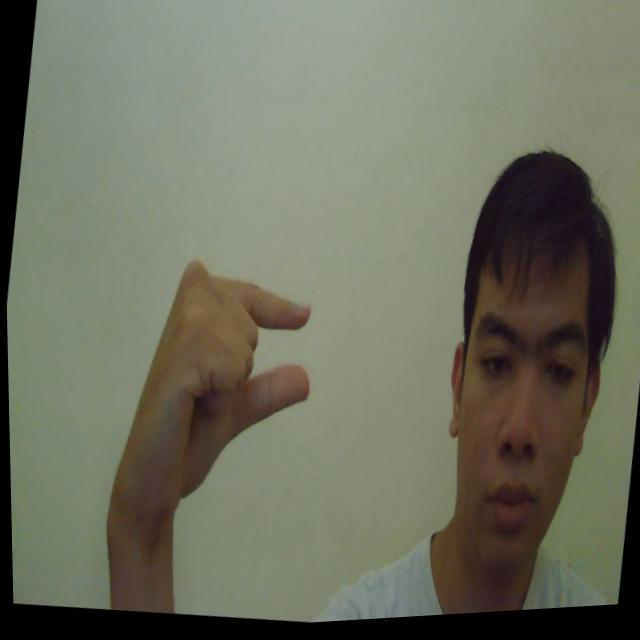G: (100, 245, 326, 539)
